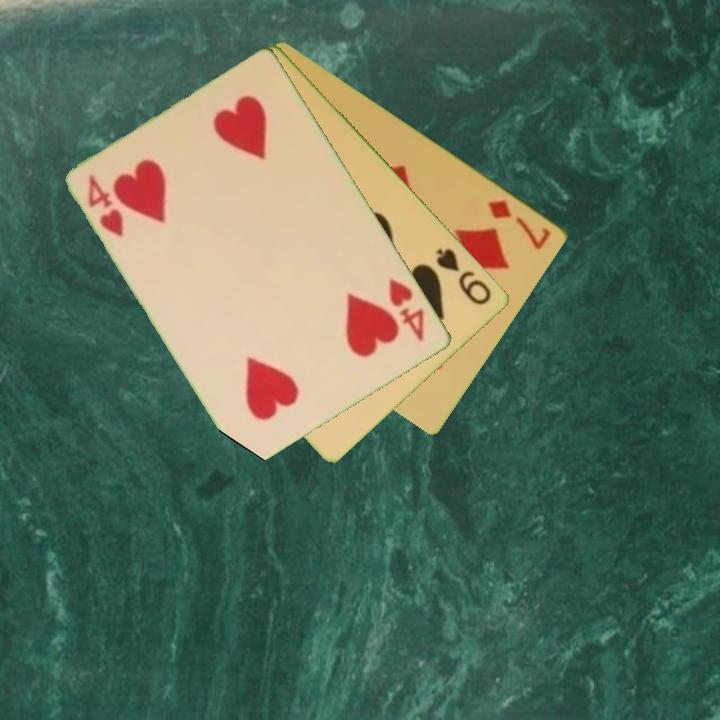4h: (385, 274, 428, 345), (84, 171, 127, 240)
7d: (485, 196, 555, 253)
9s: (433, 244, 495, 308)
